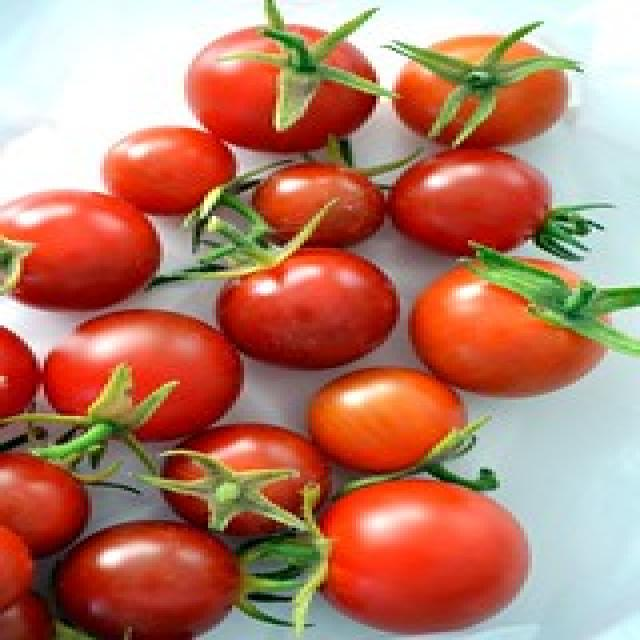Tomato: (236, 478, 539, 639), (165, 215, 403, 372), (408, 243, 639, 402), (174, 0, 394, 154), (47, 510, 323, 630), (42, 311, 241, 459), (301, 364, 523, 496), (380, 16, 590, 147), (392, 147, 617, 260), (147, 418, 331, 540), (1, 186, 166, 314)
